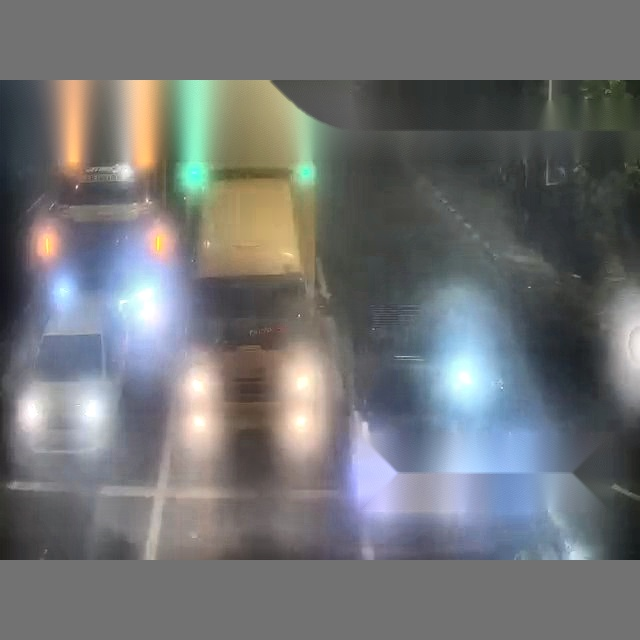Bis: (207, 68, 640, 556)
